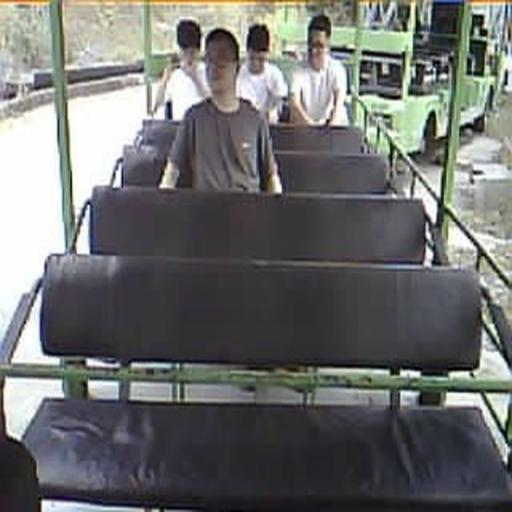persona: (158, 27, 284, 194), (288, 14, 350, 127), (152, 18, 210, 121), (235, 22, 288, 124)
